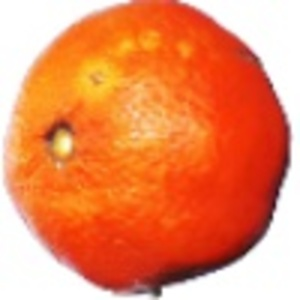tangerina: (2, 1, 294, 300)
